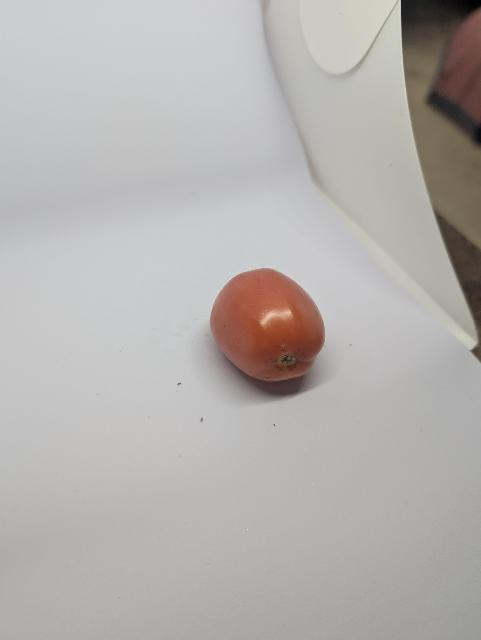red: (202, 257, 348, 390)
